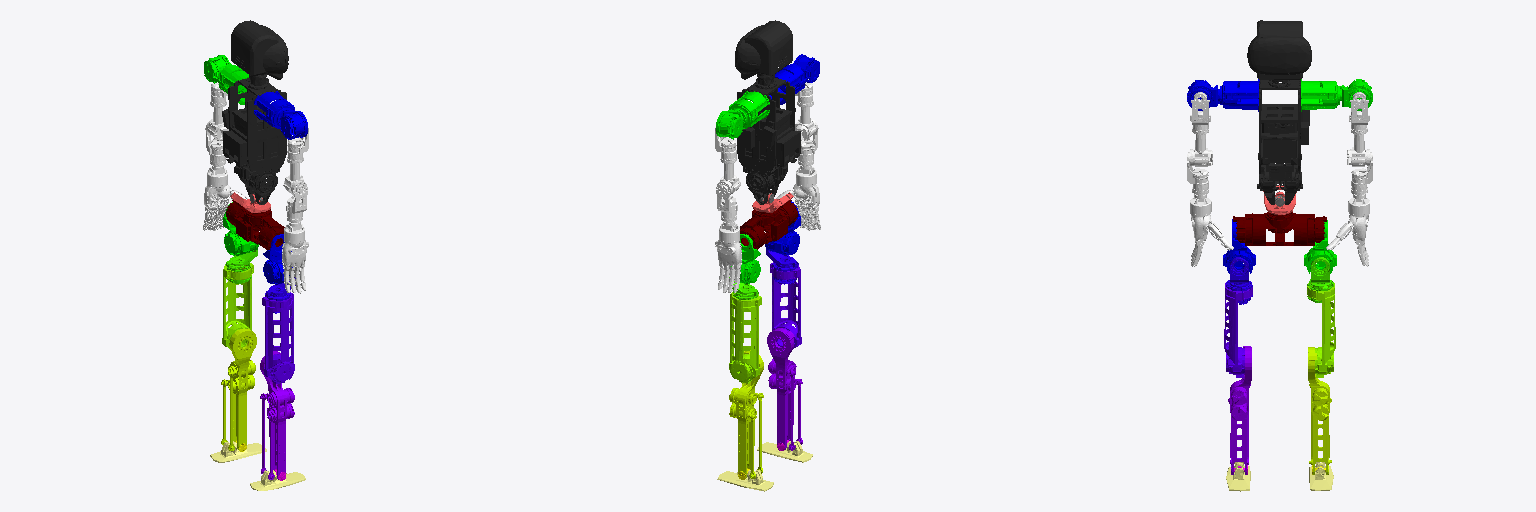
--- Render facts (derived) ---
3 views of the same robot in one strip: view 1: azimuth 30°, elevation 25°; view 2: azimuth 150°, elevation 25°; view 3: azimuth 270°, elevation 25° (orthographic).
Robot: mojia — 26 links, 25 joints (10 revolute, 15 fixed); root link base_link; default pose: all joints at 0.
Links seen in each view (by area): view 1: lumbar_pitch, left_knee_pitch, right_hip_yaw, right_knee_pitch, left_hip_yaw, base_link, right_shoulder_pitch, right_elbow_yaw, left_elbow_yaw, left_shoulder_pitch, right_hip_pitch, left_hip_pitch (+3 smaller); view 2: lumbar_pitch, right_knee_pitch, left_hip_yaw, left_knee_pitch, right_hip_yaw, base_link, left_shoulder_pitch, left_elbow_yaw, right_elbow_yaw, right_shoulder_pitch, left_hip_pitch, right_hip_pitch (+3 smaller); view 3: lumbar_pitch, base_link, left_knee_pitch, right_knee_pitch, left_shoulder_pitch, right_shoulder_pitch, left_hip_yaw, right_hip_yaw, right_elbow_yaw, left_elbow_yaw, right_shoulder_roll, left_shoulder_roll (+10 smaller).
Link boxes in pixels (x1,y1,x2,y2): lumbar_pitch: (222,20,288,204); left_knee_pitch: (221,328,256,450); right_hip_yaw: (262,292,294,383); right_knee_pitch: (260,351,294,479); left_hip_yaw: (222,263,253,349); base_link: (226,200,284,249); right_shoulder_pitch: (254,91,307,139); right_elbow_yaw: (282,222,308,293); left_elbow_yaw: (203,165,247,230); left_shoulder_pitch: (204,55,248,104); right_hip_pitch: (263,234,292,284); left_hip_pitch: (223,202,258,255); lumbar_pitch: (735,20,800,204); right_knee_pitch: (767,328,802,450); left_hip_yaw: (729,292,761,383); left_knee_pitch: (729,350,763,478); right_hip_yaw: (770,262,801,348); base_link: (740,200,797,249); left_shoulder_pitch: (716,91,769,139); left_elbow_yaw: (715,221,741,292); right_elbow_yaw: (776,165,820,230); right_shoulder_pitch: (769,54,819,104); left_hip_pitch: (731,234,760,283); right_hip_pitch: (765,201,800,254); lumbar_pitch: (1247,20,1311,204); base_link: (1233,212,1326,245); left_knee_pitch: (1308,347,1331,474); right_knee_pitch: (1228,346,1251,474); left_shoulder_pitch: (1301,79,1372,111); right_shoulder_pitch: (1187,79,1259,111); left_hip_yaw: (1307,283,1335,377); right_hip_yaw: (1224,283,1252,377); right_elbow_yaw: (1190,194,1233,266); left_elbow_yaw: (1326,194,1369,266); right_shoulder_roll: (1190,92,1210,134); left_shoulder_roll: (1349,92,1369,134).
Bounding box of the posed robot: 0.2198 × 0.5984 × 1.61 m (x, y, z).
26 mesh visuals loaded from 26 distinct referenced files (26 binary STL).

The robot description file, URDF, robot "mojia":
<?xml version="1.0" encoding="utf-8"?>
<!-- This URDF was automatically created by SolidWorks to URDF Exporter! Originally created by Stephen Brawner ([email redacted]) 
     Commit Version: 1.6.0-4-g7f85cfe  Build Version: 1.6.7995.38578
     For more information, please see http://wiki.ros.org/sw_urdf_exporter -->
<robot
  name="mojia">
  <!-- base_link -->
  <link
    name="base_link">
    <inertial>
      <origin
        xyz="-0.00411548224198929 0.000146147835290573 0.0426606792874893"
        rpy="0 0 0" />
      <mass
        value="1.10840556681425" />
      <inertia
        ixx="0.00441901229889038"
        ixy="-2.0392538906452E-06"
        ixz="-2.74478451994127E-05"
        iyy="0.00141431871882606"
        iyz="-1.41940549816939E-06"
        izz="0.00368200186094865" />
    </inertial>
    <visual>
      <origin
        xyz="0 0 0"
        rpy="0 0 0" />
      <geometry>
        <mesh
          filename="package://x1_moveit_urdf/meshes2/base_link_simple.STL" />
      </geometry>
      <material name="base_link_material">
        <color rgba="0.4 0 0 1" />
      </material>
    </visual>
    <collision>
      <origin
        xyz="0 0 0"
        rpy="0 0 0" />
      <geometry>
        <mesh
          filename="package://x1_moveit_urdf/meshes2/base_link_simple.STL" />
      </geometry>
    </collision>
  </link>
    <!-- lumbar_yaw -->
  <link
    name="lumbar_yaw">
    <inertial>
      <origin
        xyz="0.0242847587919135 0.000379949106794244 -0.0333488125835713"
        rpy="0 0 0" />
      <mass
        value="0.285605061772906" />
      <inertia
        ixx="0.000292548153065141"
        ixy="3.75674006613175E-07"
        ixz="4.24435646495604E-05"
        iyy="0.000267304646340175"
        iyz="6.64362629008402E-07"
        izz="0.000485961878526842" />
    </inertial>
    <visual>
      <origin
        xyz="0 0 0"
        rpy="0 0 0" />
      <geometry>
        <mesh
          filename="package://x1_moveit_urdf/meshes2/lumbar_yaw_simple.STL" />
      </geometry>
      <material name="lumbar_yaw_material">
        <color rgba="1 0.4 0.4 1" />
      </material>
    </visual>
    <collision>
      <origin
        xyz="0 0 0"
        rpy="0 0 0" />
      <geometry>
        <mesh
          filename="package://x1_moveit_urdf/meshes2/lumbar_yaw_simple.STL" />
      </geometry>
    </collision>
  </link>
  <!-- lumbar_yaw_joint -->
  <joint
    name="lumbar_yaw_joint"
    type="fixed">
    <origin
      xyz="-0.00892499999999956 0 0.0945"
      rpy="3.14159265358979 0 -3.14159265358978" />
    <parent
      link="base_link" />
    <child
      link="lumbar_yaw" />
    <axis
      xyz="0 0 -1" />
    <limit
      lower="-3.14"
      upper="3.14"
      effort="80"
      velocity="8" />
  </joint>
  <!-- lumbar_roll -->
  <link
    name="lumbar_roll">
    <inertial>
      <origin
        xyz="1.0432775894919E-14 5.07141613037554E-07 1.14154701148485E-13"
        rpy="0 0 0" />
      <mass
        value="0.0849490652980181" />
      <inertia
        ixx="6.8736749754492E-06"
        ixy="1.23726626464703E-20"
        ixz="-5.60189897559463E-08"
        iyy="1.42989849183807E-05"
        iyz="-2.32048040088288E-21"
        izz="1.045284785918E-05" />
    </inertial>
    <visual>
      <origin
        xyz="0 0 0"
        rpy="0 0 0" />
      <geometry>
        <mesh
          filename="package://x1_moveit_urdf/meshes2/lumbar_roll_simple.STL" />
      </geometry>
      <material
        name="lumbar_roll_material" >
        <color
          rgba="0.5 0.5 0.5 1.0" />
      </material>
    </visual>
    <collision>
      <origin
        xyz="0 0 0"
        rpy="0 0 0" />
      <geometry>
        <mesh
          filename="package://x1_moveit_urdf/meshes2/lumbar_roll_simple.STL" />
      </geometry>
    </collision>
  </link>
  <!-- lumbar_roll_joint -->
  <joint
    name="lumbar_roll_joint"
    type="fixed">
    <origin
      xyz="0 0 -0.0522"
      rpy="-1.5707963267949 0 1.57079632679492" />
    <parent
      link="lumbar_yaw" />
    <child
      link="lumbar_roll" />
    <axis
      xyz="0 0 -1" />
    <limit
      lower="-0.3"
      upper="0.3"
      effort="100"
      velocity="8" />
  </joint>
  <!-- lumbar_pitch -->
  <link
    name="lumbar_pitch">
    <inertial>
      <origin
        xyz="0.00631921618230846 0.264879323783239 0.00438445218382418"
        rpy="0 0 0" />
      <mass
        value="5.86662042170012" />
      <inertia
        ixx="0.0151704590846097"
        ixy="-0.000161997288556364"
        ixz="-2.32038766630112E-06"
        iyy="0.0137892848345163"
        iyz="1.11852172902789E-06"
        izz="0.0171651320818005" />
    </inertial>
    <visual>
      <origin
        xyz="0 0 0"
        rpy="0 0 0" />
      <geometry>
        <mesh
          filename="package://x1_moveit_urdf/meshes2/lumbar_pitch_simple.STL" />
      </geometry>
      <material
        name="lumbar_pitch_material">
        <color
          rgba="0.2 0.2 0.2 1" />
      </material>
    </visual>
    <collision>
      <origin
        xyz="0 0 0"
        rpy="0 0 0" />
      <geometry>
        <mesh
          filename="package://x1_moveit_urdf/meshes2/lumbar_pitch_simple.STL" />
      </geometry>
    </collision>
  </link>
  <!-- lumbar_pitch_joint -->
  <joint
    name="lumbar_pitch_joint"
    type="fixed">
    <origin
      xyz="0 0 0"
      rpy="0 1.55515005729251 0" />
    <parent
      link="lumbar_roll" />
    <child
      link="lumbar_pitch" />
    <axis
      xyz="0 0 1" />
    <limit
      lower="-0.3"
      upper="0.3"
      effort="100"
      velocity="8" />
  </joint>
    <!-- left_shoulder_pitch -->
  <link
    name="left_shoulder_pitch">
    <inertial>
      <origin
        xyz="-0.00332649335251115 -0.00110354880310753 0.0290235767327294"
        rpy="0 0 0" />
      <mass
        value="0.542699404176845" />
      <inertia
        ixx="0.000722529170897043"
        ixy="-5.54896068666339E-07"
        ixz="-1.91191464876378E-05"
        iyy="0.00101667275817213"
        iyz="-1.49494605897863E-05"
        izz="0.000552736902750732" />
    </inertial>
    <visual>
      <origin
        xyz="0 0 0"
        rpy="0 0 0" />
      <geometry>
        <mesh
          filename="package://x1_moveit_urdf/meshes2/left_shoulder_pitch_simple.STL" />
      </geometry>
      <material
        name="left_shoulder_pitch_material">
        <color
          rgba="0 1 0 1" />
      </material>
    </visual>
    <collision>
      <origin
        xyz="0 0 0"
        rpy="0 0 0" />
      <geometry>
        <mesh
          filename="package://x1_moveit_urdf/meshes2/left_shoulder_pitch_simple.STL" />
      </geometry>
    </collision>
  </link>
  <!-- left_shoulder_pitch_joint -->
  <joint
    name="left_shoulder_pitch_joint"
    type="revolute">
    <origin
      xyz="0.00684066494661035 0.365998640806869 0.181174671123289"
      rpy="3.14159265358979 0.031292539004771 0" />
    <parent
      link="lumbar_pitch" />
    <child
      link="left_shoulder_pitch" />
    <axis
      xyz="0 0 -1" />
    <limit
      lower="-3.14"
      upper="3.14"
      effort="80"
      velocity="8" />
  </joint>
  <!-- left_shoulder_roll -->
  <link
    name="left_shoulder_roll">
    <inertial>
      <origin
        xyz="-8.25364178028698E-05 0.0530767872535207 0.00723170713850169"
        rpy="0 0 0" />
      <mass
        value="0.177262967285343" />
      <inertia
        ixx="0.000150561257813197"
        ixy="-1.57480740107331E-07"
        ixz="-5.3233372935276E-07"
        iyy="6.49151390070414E-05"
        iyz="1.54045787231362E-05"
        izz="0.000184234580216881" />
    </inertial>
    <visual>
      <origin
        xyz="0 0 0"
        rpy="0 0 0" />
      <geometry>
        <mesh
          filename="package://x1_moveit_urdf/meshes2/left_shoulder_roll_simple.STL" />
      </geometry>
      <material
        name="">
        <color
          rgba="1 1 1 1" />
      </material>
    </visual>
    <collision>
      <origin
        xyz="0 0 0"
        rpy="0 0 0" />
      <geometry>
        <mesh
          filename="package://x1_moveit_urdf/meshes2/left_shoulder_roll_simple.STL" />
      </geometry>
    </collision>
  </link>
  <!-- left_shoulder_roll_joint -->
  <joint
    name="left_shoulder_roll_joint"
    type="revolute">
    <origin
      xyz="-0.0169999133123217 -5.42897189597658E-05 -0.0733999999999981"
      rpy="0 -1.55515005729249 0" />
    <parent
      link="left_shoulder_pitch" />
    <child
      link="left_shoulder_roll" />
    <axis
      xyz="0 0 -1" />
    <limit
      lower="-3.14"
      upper="0"
      effort="80"
      velocity="8" />
  </joint>
  <!-- left_shoulder_yaw -->
  <link
    name="left_shoulder_yaw">
    <inertial>
      <origin
        xyz="0.000149139608111414 -0.00264803136489561 -0.0651418602655361"
        rpy="0 0 0" />
      <mass
        value="0.194803017588638" />
      <inertia
        ixx="0.000135198542790347"
        ixy="-6.61852095338855E-08"
        ixz="5.10717801509479E-07"
        iyy="0.000166335353414696"
        iyz="6.51047641164555E-06"
        izz="6.6471862655499E-05" />
    </inertial>
    <visual>
      <origin
        xyz="0 0 0"
        rpy="0 0 0" />
      <geometry>
        <mesh
          filename="package://x1_moveit_urdf/meshes2/left_shoulder_yaw_simple.STL" />
      </geometry>
      <material
        name="">
        <color
          rgba="1 1 1 1" />
      </material>
    </visual>
    <collision>
      <origin
        xyz="0 0 0"
        rpy="0 0 0" />
      <geometry>
        <mesh
          filename="package://x1_moveit_urdf/meshes2/left_shoulder_yaw_simple.STL" />
      </geometry>
    </collision>
  </link>
  <!-- left_shoulder_yaw_joint -->
  <joint
    name="left_shoulder_yaw_joint"
    type="revolute">
    <origin
      xyz="0.000579714734117776 0.125254090204787 -0.0166930578416904"
      rpy="1.82673878068826 1.5582045043871 0.256324151940751" />
    <parent
      link="left_shoulder_roll" />
    <child
      link="left_shoulder_yaw" />
    <axis
      xyz="0 0 1" />
    <limit
      lower="-3.14"
      upper="3.14"
      effort="80"
      velocity="8" />
  </joint>
  <!-- left_elbow_pitch -->
  <link
    name="left_elbow_pitch">
    <inertial>
      <origin
        xyz="-0.000273876102835502 0.0583033973975012 0.00453621119175379"
        rpy="0 0 0" />
      <mass
        value="0.143808611229734" />
      <inertia
        ixx="0.000122979516243816"
        ixy="-1.55890139227625E-06"
        ixz="-5.36818906720583E-07"
        iyy="5.35513055114415E-05"
        iyz="-1.70454399759809E-05"
        izz="0.000140691828936738" />
    </inertial>
    <visual>
      <origin
        xyz="0 0 0"
        rpy="0 0 0" />
      <geometry>
        <mesh
          filename="package://x1_moveit_urdf/meshes2/left_elbow_pitch_simple.STL" />
      </geometry>
      <material
        name="">
        <color
          rgba="1 1 1 1" />
      </material>
    </visual>
    <collision>
      <origin
        xyz="0 0 0"
        rpy="0 0 0" />
      <geometry>
        <mesh
          filename="package://x1_moveit_urdf/meshes2/left_elbow_pitch_simple.STL" />
      </geometry>
    </collision>
  </link>
  <!-- left_elbow_pitch_joint -->
  <joint
    name="left_elbow_pitch_joint"
    type="revolute">
    <origin
      xyz="0.00163986046518474 -0.0313569443085182 -0.096499999999999"
      rpy="-1.5707963267949 -0.00319351850506053 0.00346578280149134" />
    <parent
      link="left_shoulder_yaw" />
    <child
      link="left_elbow_pitch" />
    <axis
      xyz="0 0 1" />
    <limit
      lower="0"
      upper="1.7"
      effort="80"
      velocity="8" />
  </joint>
  <!-- left_elbow_yaw -->
  <link
    name="left_elbow_yaw">
    <inertial>
      <origin
        xyz="0.000199094560296431 -0.000302870223542744 -0.0136355891234377"
        rpy="0 0 0" />
      <mass
        value="0.0612077984858201" />
      <inertia
        ixx="1.05700158378458E-05"
        ixy="-1.4621144225104E-07"
        ixz="-1.50686031125134E-11"
        iyy="8.35342507539468E-06"
        iyz="-2.09223764956818E-11"
        izz="1.19406807189465E-05" />
    </inertial>
    <visual>
      <origin
        xyz="0 0 0"
        rpy="0 0 0" />
      <geometry>
        <mesh
          filename="package://x1_moveit_urdf/meshes2/left_elbow_yaw_simple.STL" />
      </geometry>
      <material
        name="">
        <color
          rgba="1 1 1 1" />
      </material>
    </visual>
    <collision>
      <origin
        xyz="0 0 0"
        rpy="0 0 0" />
      <geometry>
        <mesh
          filename="package://x1_moveit_urdf/meshes2/left_elbow_yaw_simple.STL" />
      </geometry>
    </collision>
  </link>
  <!-- left_elbow_yaw_joint -->
  <joint
    name="left_elbow_yaw_joint"
    type="revolute">
    <origin
      xyz="0.0007880461527357 0.116972521845495 0.0308056475131634"
      rpy="1.57079632678494 -1.55514499556442 -0.022438290275157" />
    <parent
      link="left_elbow_pitch" />
    <child
      link="left_elbow_yaw" />
    <axis
      xyz="0 0 1" />
    <limit
      lower="-3.14"
      upper="3.14"
      effort="80"
      velocity="8" />
  </joint>
    <!-- right_shoulder_pitch -->
  <link
    name="right_shoulder_pitch">
    <inertial>
      <origin
        xyz="0.00341359621287992 -0.000986341160443271 0.0291359382301364"
        rpy="0 0 0" />
      <mass
        value="0.541164807985143" />
      <inertia
        ixx="0.000722519077405953"
        ixy="1.32379537779855E-06"
        ixz="1.91138067798437E-05"
        iyy="0.00101665284015591"
        iyz="-1.68000287858978E-05"
        izz="0.000552732129965598" />
    </inertial>
    <visual>
      <origin
        xyz="0 0 0"
        rpy="0 0 0" />
      <geometry>
        <mesh
          filename="package://x1_moveit_urdf/meshes2/right_shoulder_pitch_simple.STL" />
      </geometry>
      <material
        name="right_shoulder_pitch_material">
        <color
          rgba="0 0 1 1" />
      </material>
    </visual>
    <collision>
      <origin
        xyz="0 0 0"
        rpy="0 0 0" />
      <geometry>
        <mesh
          filename="package://x1_moveit_urdf/meshes2/right_shoulder_pitch_simple.STL" />
      </geometry>
    </collision>
  </link>
  <!-- right_shoulder_pitch_joint -->
  <joint
    name="right_shoulder_pitch_joint"
    type="revolute">
    <origin
      xyz="0.00116882571392232 0.365998640806869 -0.181299999999985"
      rpy="0 0 3.14159265358979" />
    <parent
      link="lumbar_pitch" />
    <child
      link="right_shoulder_pitch" />
    <axis
      xyz="0 0 1" />
    <limit
      lower="-3.14"
      upper="3.14"
      effort="80"
      velocity="8" />
  </joint>
  <!-- right_shoulder_roll -->
  <link
    name="right_shoulder_roll">
    <inertial>
      <origin
        xyz="-1.86494505473034E-05 -0.0530995950476543 0.00706257503619361"
        rpy="0 0 0" />
      <mass
        value="0.177262967616402" />
      <inertia
        ixx="0.000150552920976246"
        ixy="2.34557176353238E-08"
        ixz="-5.52349341421497E-09"
        iyy="6.5014673405522E-05"
        iyz="-1.57859159242346E-05"
        izz="0.000184143383830389" />
    </inertial>
    <visual>
      <origin
        xyz="0 0 0"
        rpy="0 0 0" />
      <geometry>
        <mesh
          filename="package://x1_moveit_urdf/meshes2/right_shoulder_roll_simple.STL" />
      </geometry>
      <material
        name="">
        <color
          rgba="1 1 1 1" />
      </material>
    </visual>
    <collision>
      <origin
        xyz="0 0 0"
        rpy="0 0 0" />
      <geometry>
        <mesh
          filename="package://x1_moveit_urdf/meshes2/right_shoulder_roll_simple.STL" />
      </geometry>
    </collision>
  </link>
  <!-- right_shoulder_roll_joint -->
  <joint
    name="right_shoulder_roll_joint"
    type="revolute">
    <origin
      xyz="0.0169999133123207 -5.42897189588776E-05 -0.0733999999999984"
      rpy="-0.234226861435469 -1.57079630572147 -2.91064514152232" />
    <parent
      link="right_shoulder_pitch" />
    <child
      link="right_shoulder_roll" />
    <axis
      xyz="0 0 1" />
    <limit
      lower="-3.14"
      upper="0"
      effort="80"
      velocity="8" />
  </joint>
  <!-- right_shoulder_yaw -->
  <link
    name="right_shoulder_yaw">
    <inertial>
      <origin
        xyz="-0.00174842851611806 0.000333054815321896 0.0651418600731424"
        rpy="0 0 0" />
      <mass
        value="0.19480301770664" />
      <inertia
        ixx="0.000165972455416268"
        ixy="-3.34246474543428E-06"
        ixz="-6.92073368503519E-06"
        iyy="0.000135561436521552"
        iyz="2.24532271362631E-07"
        izz="6.64718608216598E-05" />
    </inertial>
    <visual>
      <origin
        xyz="0 0 0"
        rpy="0 0 0" />
      <geometry>
        <mesh
          filename="package://x1_moveit_urdf/meshes2/right_shoulder_yaw_simple.STL" />
      </geometry>
      <material
        name="">
        <color
          rgba="1 1 1 1" />
      </material>
    </visual>
    <collision>
      <origin
        xyz="0 0 0"
        rpy="0 0 0" />
      <geometry>
        <mesh
          filename="package://x1_moveit_urdf/meshes2/right_shoulder_yaw_simple.STL" />
      </geometry>
    </collision>
  </link>
  <!-- right_shoulder_yaw_joint -->
  <joint
    name="right_shoulder_yaw_joint"
    type="revolute">
    <origin
      xyz="-4.39689994110593E-05 -0.125199992279295 -0.0170999999999989"
      rpy="1.5707963267949 -0.109529170147002 -0.000351190097847177" />
    <parent
      link="right_shoulder_roll" />
    <child
      link="right_shoulder_yaw" />
    <axis
      xyz="0 0 1" />
    <limit
      lower="-3.14"
      upper="3.14"
      effort="80"
      velocity="8" />
  </joint>
  <!-- right_elbow_pitch -->
  <link
    name="right_elbow_pitch">
    <inertial>
      <origin
        xyz="0.00130853072632608 -0.0583071351001719 0.00456877405751716"
        rpy="0 0 0" />
      <mass
        value="0.143808617756103" />
      <inertia
        ixx="0.000122979526170695"
        ixy="1.55889015489514E-06"
        ixz="-5.3677454927956E-07"
        iyy="5.35513063953965E-05"
        iyz="1.70454411337504E-05"
        izz="0.000140691839527152" />
    </inertial>
    <visual>
      <origin
        xyz="0 0 0"
        rpy="0 0 0" />
      <geometry>
        <mesh
          filename="package://x1_moveit_urdf/meshes2/right_elbow_pitch_simple.STL" />
      </geometry>
      <material
        name="">
        <color
          rgba="1 1 1 1" />
      </material>
    </visual>
    <collision>
      <origin
        xyz="0 0 0"
        rpy="0 0 0" />
      <geometry>
        <mesh
          filename="package://x1_moveit_urdf/meshes2/right_elbow_pitch_simple.STL" />
      </geometry>
    </collision>
  </link>
  <!-- right_elbow_pitch_joint -->
  <joint
    name="right_elbow_pitch_joint"
    type="revolute">
    <origin
      xyz="-0.0308142379152539 0.00338861943897752 0.0964999999999989"
      rpy="-1.5707963267949 0.00319351850506053 -1.68032549694189" />
    <parent
      link="right_shoulder_yaw" />
    <child
      link="right_elbow_pitch" />
    <axis
      xyz="0 0 -1" />
    <limit
      lower="0"
      upper="1.7"
      effort="80"
      velocity="8" />
  </joint>
  <!-- right_elbow_yaw -->
  <link
    name="right_elbow_yaw">
    <inertial>
      <origin
        xyz="-1.92816910771221E-08 -1.64460819754297E-08 -0.013635590017065"
        rpy="0 0 0" />
      <mass
        value="0.0612078028237884" />
      <inertia
        ixx="1.05700177312347E-05"
        ixy="1.46204619903361E-07"
        ixz="-1.27083552627504E-11"
        iyy="8.35342478537872E-06"
        iyz="-1.53169897306542E-11"
        izz="1.19406809591988E-05" />
    </inertial>
    <visual>
      <origin
        xyz="0 0 0"
        rpy="0 0 0" />
      <geometry>
        <mesh
          filename="package://x1_moveit_urdf/meshes2/right_elbow_yaw_simple.STL" />
      </geometry>
      <material
        name="">
        <color
          rgba="1 1 1 1" />
      </material>
    </visual>
    <collision>
      <origin
        xyz="0 0 0"
        rpy="0 0 0" />
      <geometry>
        <mesh
          filename="package://x1_moveit_urdf/meshes2/right_elbow_yaw_simple.STL" />
      </geometry>
    </collision>
  </link>
  <!-- right_elbow_yaw_joint -->
  <joint
    name="right_elbow_yaw_joint"
    type="revolute">
    <origin
      xyz="0.00262505967428117 -0.116970547838755 0.0310000000000156"
      rpy="-1.57079632678494 -1.55514499556442 0.0224382902751568" />
    <parent
      link="right_elbow_pitch" />
    <child
      link="right_elbow_yaw" />
    <axis
      xyz="0 0 -1" />
    <limit
      lower="-3.14"
      upper="3.14"
      effort="80"
      velocity="8" />
  </joint>
  <!-- left_hip_pitch -->
  <link
    name="left_hip_pitch">
    <inertial>
      <origin
        xyz="-0.0768353855661542 -0.00509349646830231 0.00477908123851142"
        rpy="0 0 0" />
      <mass
        value="0.499137053804163" />
      <inertia
        ixx="0.000470159834795421"
        ixy="-7.67218816291647E-07"
        ixz="6.34831225495408E-05"
        iyy="0.00075943013272318"
        iyz="1.50572596404635E-07"
        izz="0.000627349919131527" />
    </inertial>
    <visual>
      <origin
        xyz="0 0 0"
        rpy="0 0 0" />
      <geometry>
        <mesh
          filename="package://x1_moveit_urdf/meshes2/left_hip_pitch_simple.STL" />
      </geometry>
      <material
        name="left_hip_pitch_material">
        <color
          rgba="0 1 0 1" />
      </material>
    </visual>
    <collision>
      <origin
        xyz="0 0 0"
        rpy="0 0 0" />
      <geometry>
        <mesh
          filename="package://x1_moveit_urdf/meshes2/left_hip_pitch_simple.STL" />
      </geometry>
    </collision>
  </link>
  <!-- left_hip_pitch_joint -->
  <joint
    name="left_hip_pitch_joint"
    type="fixed">
    <origin
      xyz="-0.00892499999999997 0.1366 0.0370000000000009"
      rpy="1.5707963267949 -1.5707963267949 0" />
    <parent
      link="base_link" />
    <child
      link="left_hip_pitch" />
    <axis
      xyz="0 0 1" />
    <limit
      lower="-3.14"
      upper="3.14"
      effort="150"
      velocity="8" />
  </joint>
  <!-- left_hip_roll -->
  <link
    name="left_hip_roll">
    <inertial>
      <origin
        xyz="0.000302607426308971 -0.0611150281238166 -0.0135350215072093"
        rpy="0 0 0" />
      <mass
        value="0.244995882241488" />
      <inertia
        ixx="0.000288446946271372"
        ixy="-3.94306076373627E-10"
        ixz="-1.63239145296905E-07"
        iyy="0.000203132884371558"
        iyz="-8.13199094994196E-05"
        izz="0.000260839810139012" />
    </inertial>
    <visual>
      <origin
        xyz="0 0 0"
        rpy="0 0 0" />
      <geometry>
        <mesh
          filename="package://x1_moveit_urdf/meshes2/left_hip_roll_simple.STL" />
      </geometry>
      <material
        name="left_hip_roll_material">
        <color
          rgba="0.3 1 0 1" />
      </material>
    </visual>
    <collision>
      <origin
        xyz="0 0 0"
        rpy="0 0 0" />
      <geometry>
        <mesh
          filename="package://x1_moveit_urdf/meshes2/left_hip_roll_simple.STL" />
      </geometry>
    </collision>
  </link>
  <!-- left_hip_roll_joint -->
  <joint
    name="left_hip_roll_joint"
    type="fixed">
    <origin
      xyz="-0.106902043422618 -0.0376294513921441 0.00625000000000259"
      rpy="1.5707963267949 1.5707963267949 0" />
    <parent
      link="left_hip_pitch" />
    <child
      link="left_hip_roll" />
    <axis
      xyz="0 0 -1" />
    <limit
      lower="-2.3"
      upper="0.8"
      effort="150"
      velocity="8" />
  </joint>
  <!-- left_hip_yaw -->
  <link
    name="left_hip_yaw">
    <inertial>
      <origin
        xyz="0.00998955793786788 0.000163319481209022 0.125854635023332"
        rpy="0 0 0" />
      <mass
        value="0.650294976239883" />
      <inertia
        ixx="0.00451228884717276"
        ixy="-2.80689031477291E-08"
        ixz="0.000127212368924329"
        iyy="0.00387304139500323"
        iyz="-4.60618890673578E-09"
        izz="0.000888216455121223" />
    </inertial>
    <visual>
      <origin
        xyz="0 0 0"
        rpy="0 0 0" />
      <geometry>
        <mesh
          filename="package://x1_moveit_urdf/meshes2/left_hip_yaw_simple.STL" />
      </geometry>
      <material
        name="left_hip_yaw_material">
        <color
          rgba="0.6 1 0 1" />
      </material>
    </visual>
    <collision>
      <origin
        xyz="0 0 0"
        rpy="0 0 0" />
      <geometry>
        <mesh
          filename="package://x1_moveit_urdf/meshes2/left_hip_yaw_simple.STL" />
      </geometry>
    </collision>
  </link>
  <!-- left_hip_yaw_joint -->
  <joint
    name="left_hip_yaw_joint"
    type="fixed">
    <origin
      xyz="0 -0.130201409923332 -0.0367599239353459"
      rpy="1.56818343700026 0 0" />
    <parent
      link="left_hip_roll" />
    <child
      link="left_hip_yaw" />
    <axis
      xyz="0 0 -1" />
    <limit
      lower="-3.14"
      upper="3.14"
      effort="50"
      velocity="24" />
  </joint>
  <!-- left_knee_pitch -->
  <link
    name="left_knee_pitch">
    <inertial>
      <origin
        xyz="0.0114537842909162 -0.184145220288645 0.0234060443728987"
        rpy="0 0 0" />
      <mass
        value="1.05784720547283" />
      <inertia
        ixx="0.0113485834531835"
        ixy="4.115770741638E-05"
        ixz="7.86723536105806E-06"
        iyy="0.000518068119921075"
        iyz="0.000981300531059996"
        izz="0.0111404498442601" />
    </inertial>
    <visual>
      <origin
        xyz="0 0 0"
        rpy="0 0 0" />
      <geometry>
        <mesh
          filename="package://x1_moveit_urdf/meshes2/left_knee_pitch_simple.STL" />
      </geometry>
      <material
        name="left_knee_pitch_material">
        <color
          rgba="0.8 1 0 1" />
      </material>
    </visual>
    <collision>
      <origin
        xyz="0 0 0"
        rpy="0 0 0" />
      <geometry>
        <mesh
          filename="package://x1_moveit_urdf/meshes2/left_knee_pitch_simple.STL" />
      </geometry>
    </collision>
  </link>
  <!-- left_knee_pitch_joint -->
  <joint
    name="left_knee_pitch_joint"
    type="fixed">
    <origin
      xyz="-0.0301999999999961 0 0.225799999999773"
      rpy="-1.5707963267949 0.00261288979463162 -1.57079632679624" />
    <parent
      link="left_hip_yaw" />
    <child
      link="left_knee_pitch" />
    <axis
      xyz="0 0 1" />
    <limit
      lower="0.0"
      upper="1.8"
      effort="150"
      velocity="8" />
  </joint>
  <!-- left_ankle_pitch -->
  <link
    name="left_ankle_pitch">
    <inertial>
      <origin
        xyz="-8.84427080183325E-15 9.32587340685131E-15 -7.41073868937292E-15"
        rpy="0 0 0" />
      <mass
        value="0.0849490652980182" />
      <inertia
        ixx="9.9634051635566E-06"
        ixy="-5.80894148829404E-08"
        ixz="-1.45166121763947E-21"
        iyy="1.42982066187501E-05"
        iyz="-4.17714819225745E-21"
        izz="7.36389597070316E-06" />
    </inertial>
    <visual>
      <origin
        xyz="0 0 0"
        rpy="0 0 0" />
      <geometry>
        <mesh
          filename="package://x1_moveit_urdf/meshes2/left_ankle_pitch_simple.STL" />
      </geometry>
      <material
        name="left_ankle_pitch_material">
        <color
          rgba="1 1 0 1" />
      </material>
    </visual>
    <collision>
      <origin
        xyz="0 0 0"
        rpy="0 0 0" />
      <geometry>
        <mesh
          filename="package://x1_moveit_urdf/meshes2/left_ankle_pitch_simple.STL" />
      </geometry>
    </collision>
  </link>
  <!-- left_ankle_pitch_joint -->
  <joint
    name="left_ankle_pitch_joint"
    type="fixed">
    <origin
      xyz="0 -0.385000000000005 0.0300999999999915"
      rpy="3.14159265358979 0 -3.14159265358979" />
    <parent
      link="left_knee_pitch" />
    <child
      link="left_ankle_pitch" />
    <axis
      xyz="0 0 -1" />
    <limit
      lower="-0.45"
      upper="0.53"
      effort="80"
      velocity="10" />
  </joint>
  <!-- left_ankle_roll -->
  <link
    name="left_ankle_roll">
    <inertial>
      <origin
        xyz="0.00103384742139478 -0.0243320483988078 -0.00578115568426951"
        rpy="0 0 0" />
      <mass
        value="0.320872234018552" />
      <inertia
        ixx="0.00059815844106272"
        ixy="-6.17694002252597E-07"
        ixz="-3.42614597752537E-07"
        iyy="0.000659551190538004"
        iyz="-0.000109468786305328"
        izz="0.000136929660183721" />
    </inertial>
    <visual>
      <origin
        xyz="0 0 0"
        rpy="0 0 0" />
      <geometry>
        <mesh
          filename="package://x1_moveit_urdf/meshes2/left_ankle_roll_simple.STL" />
      </geometry>
      <material
        name="left_ankle_roll_material">
        <color
          rgba="1 1 0.6 1" />
      </material>
    </visual>
    <collision>
      <origin
        xyz="0 0 0"
        rpy="0 0 0" />
      <geometry>
        <mesh
          filename="package://x1_moveit_urdf/meshes2/left_ankle_roll_simple.STL" />
      </geometry>
    </collision>
  </link>
  <!-- left_ankle_roll_joint -->
  <joint
    name="left_ankle_roll_joint"
    type="fixed">
    <origin
      xyz="0 0 0"
      rpy="0.186565506447449 1.5707963267949 0" />
    <parent
      link="left_ankle_pitch" />
    <child
      link="left_ankle_roll" />
    <axis
      xyz="0 0 1" />
    <limit
      lower="-0.35"
      upper="0.35"
      effort="80"
      velocity="10" />
  </joint>
  <!-- right_hip_pitch -->
  <link
    name="right_hip_pitch">
    <inertial>
      <origin
        xyz="0.0768366458793737 0.00507070394553279 -0.00402980267174513"
        rpy="0 0 0" />
      <mass
        value="0.499137066244464" />
      <inertia
        ixx="0.00047013850002577"
        ixy="-7.56987007842232E-07"
        ixz="6.34716406414524E-05"
        iyy="0.000759430235919837"
        iyz="1.60339075938364E-07"
        izz="0.000627371250338339" />
    </inertial>
    <visual>
      <origin
        xyz="0 0 0"
        rpy="0 0 0" />
      <geometry>
        <mesh
          filename="package://x1_moveit_urdf/meshes2/right_hip_pitch_simple.STL" />
      </geometry>
      <material
        name="right_hip_pitch_material">
        <color
          rgba="0 0 1 1" />
      </material>
    </visual>
    <collision>
      <origin
        xyz="0 0 0"
        rpy="0 0 0" />
      <geometry>
        <mesh
          filename="package://x1_moveit_urdf/meshes2/right_hip_pitch_simple.STL" />
      </geometry>
    </collision>
  </link>
  <!-- right_hip_pitch_joint -->
  <joint
    name="right_hip_pitch_joint"
    type="fixed">
    <origin
      xyz="-0.00892499999999973 -0.13585 0.0369999999999999"
      rpy="1.5707963267949 1.5707963267949 0" />
    <parent
      link="base_link" />
    <child
      link="right_hip_pitch" />
    <axis
      xyz="0 0 -1" />
    <limit
      lower="-3.14"
      upper="3.14"
      effort="150"
      velocity="8" />
  </joint>
  <!-- right_hip_roll -->
  <link
    name="right_hip_roll">
    <inertial>
      <origin
        xyz="0.000302609741209936 -0.0481256896162707 0.0135689612944725"
        rpy="0 0 0" />
      <mass
        value="0.244995882241488" />
      <inertia
        ixx="0.000288446946271372"
        ixy="-4.58668568466603E-10"
        ixz="1.63208876158808E-07"
        iyy="0.000203132884444001"
        iyz="8.13198956366528E-05"
        izz="0.000260839810066567" />
    </inertial>
    <visual>
      <origin
        xyz="0 0 0"
        rpy="0 0 0" />
      <geometry>
        <mesh
          filename="package://x1_moveit_urdf/meshes2/right_hip_roll_simple.STL" />
      </geometry>
      <material
        name="right_hip_roll_material">
        <color
          rgba="0.2 0 1 1" />
      </material>
    </visual>
    <collision>
      <origin
        xyz="0 0 0"
        rpy="0 0 0" />
      <geometry>
        <mesh
          filename="package://x1_moveit_urdf/meshes2/right_hip_roll_simple.STL" />
      </geometry>
    </collision>
  </link>
  <!-- right_hip_roll_joint -->
  <joint
    name="right_hip_roll_joint"
    type="fixed">
    <origin
      xyz="0.106902043422617 0.0376294513921436 -0.00550000000000225"
      rpy="1.5707963267949 -1.5707963267949 0" />
    <parent
      link="right_hip_pitch" />
    <child
      link="right_hip_roll" />
    <axis
      xyz="0 0 1" />
    <limit
      lower="-0.8"
      upper="2.3"
      effort="150"
      velocity="8" />
  </joint>
  <!-- right_hip_yaw -->
  <link
    name="right_hip_yaw">
    <inertial>
      <origin
        xyz="0.00997976758109967 0.000164622694333141 -0.128953309088852"
        rpy="0 0 0" />
      <mass
        value="0.650294990438815" />
      <inertia
        ixx="0.00451228884076351"
        ixy="-7.78594513952418E-08"
        ixz="-0.000127213484001969"
        iyy="0.00387302734368796"
        iyz="4.22793975972583E-07"
        izz="0.000888230509769963" />
    </inertial>
    <visual>
      <origin
        xyz="0 0 0"
        rpy="0 0 0" />
      <geometry>
        <mesh
          filename="package://x1_moveit_urdf/meshes2/right_hip_yaw_simple.STL" />
      </geometry>
      <material
        name="right_hip_yaw_material">
        <color
          rgba="0.4 0 1 1" />
      </material>
    </visual>
    <collision>
      <origin
        xyz="0 0 0"
        rpy="0 0 0" />
      <geometry>
        <mesh
          filename="package://x1_moveit_urdf/meshes2/right_hip_yaw_simple.STL" />
      </geometry>
    </collision>
  </link>
  <!-- right_hip_yaw_joint -->
  <joint
    name="right_hip_yaw_joint"
    type="fixed">
    <origin
      xyz="0 -0.127101420505254 0.0367680238844933"
      rpy="-1.56818343700027 0 0" />
    <parent
      link="right_hip_roll" />
    <child
      link="right_hip_yaw" />
    <axis
      xyz="0 0 1" />
    <limit
      lower="-3.14"
      upper="3.14"
      effort="50"
      velocity="24" />
  </joint>
  <!-- right_knee_pitch -->
  <link
    name="right_knee_pitch">
    <inertial>
      <origin
        xyz="-0.0124372999743814 -0.180980729647601 0.0232971916031315"
        rpy="0 0 0" />
      <mass
        value="1.04073030200212" />
      <inertia
        ixx="0.0113468217525957"
        ixy="4.36819133877329E-05"
        ixz="7.86572143299153E-06"
        iyy="0.000516306532946036"
        iyz="0.000981314366555794"
        izz="0.0111403363346532" />
    </inertial>
    <visual>
      <origin
        xyz="0 0 0"
        rpy="0 0 0" />
      <geometry>
        <mesh
          filename="package://x1_moveit_urdf/meshes2/right_knee_pitch_simple.STL" />
      </geometry>
      <material
        name="right_knee_pitch_material">
        <color
          rgba="0.6 0 1 1" />
      </material>
    </visual>
    <collision>
      <origin
        xyz="0 0 0"
        rpy="0 0 0" />
      <geometry>
        <mesh
          filename="package://x1_moveit_urdf/meshes2/right_knee_pitch_simple.STL" />
      </geometry>
    </collision>
  </link>
  <!-- right_knee_pitch_joint -->
  <joint
    name="right_knee_pitch_joint"
    type="fixed">
    <origin
      xyz="-0.0301999999999978 0 -0.228899999999995"
      rpy="1.57079632679489 0.00261288979462868 1.57079632679603" />
    <parent
      link="right_hip_yaw" />
    <child
      link="right_knee_pitch" />
    <axis
      xyz="0 0 -1" />
    <limit
      lower="0.0"
      upper="1.8"
      effort="150"
      velocity="8" />
  </joint>
  <!-- right_ankle_pitch -->
  <link
    name="right_ankle_pitch">
    <inertial>
      <origin
        xyz="-2.46764414457701E-14 -1.0769163338864E-14 -3.0891955660195E-14"
        rpy="0 0 0" />
      <mass
        value="0.0849490652980182" />
      <inertia
        ixx="9.9634051635566E-06"
        ixy="5.80894148829403E-08"
        ixz="-1.75930107244605E-21"
        iyy="1.42982066187501E-05"
        iyz="3.87572618478114E-21"
        izz="7.36389597070316E-06" />
    </inertial>
    <visual>
      <origin
        xyz="0 0 0"
        rpy="0 0 0" />
      <geometry>
        <mesh
          filename="package://x1_moveit_urdf/meshes2/right_ankle_pitch_simple.STL" />
      </geometry>
      <material
        name="right_ankle_pitch_material">
        <color
          rgba="1 0 1 1" />
      </material>
    </visual>
    <collision>
      <origin
        xyz="0 0 0"
        rpy="0 0 0" />
      <geometry>
        <mesh
          filename="package://x1_moveit_urdf/meshes2/right_ankle_pitch_simple.STL" />
      </geometry>
    </collision>
  </link>
  <!-- right_ankle_pitch_joint -->
  <joint
    name="right_ankle_pitch_joint"
    type="fixed">
    <origin
      xyz="0 -0.385000000000006 0.0300999999999655"
      rpy="-3.14159265358979 0 0" />
    <parent
      link="right_knee_pitch" />
    <child
      link="right_ankle_pitch" />
    <axis
      xyz="0 0 1" />
    <limit
      lower="-0.45"
      upper="0.53"
      effort="80"
      velocity="10" />
  </joint>
  <!-- right_ankle_roll -->
  <link
    name="right_ankle_roll">
    <inertial>
      <origin
        xyz="0.00103396574657999 0.0228374969778827 -0.0101940682091403"
        rpy="0 0 0" />
      <mass
        value="0.320872234079849" />
      <inertia
        ixx="0.000598158441322896"
        ixy="5.4344616755146E-07"
        ixz="-4.51714691178402E-07"
        iyy="0.00068147550403419"
        iyz="6.67996321576171E-06"
        izz="0.000115005348867487" />
    </inertial>
    <visual>
      <origin
        xyz="0 0 0"
        rpy="0 0 0" />
      <geometry>
        <mesh
          filename="package://x1_moveit_urdf/meshes2/right_ankle_roll_simple.STL" />
      </geometry>
      <material
        name="right_ankle_roll_material">
        <color
          rgba="1 1 0.6 1" />
      </material>
    </visual>
    <collision>
      <origin
        xyz="0 0 0"
        rpy="0 0 0" />
      <geometry>
        <mesh
          filename="package://x1_moveit_urdf/meshes2/right_ankle_roll_simple.STL" />
      </geometry>
    </collision>
  </link>
  <!-- right_ankle_roll_joint -->
  <joint
    name="right_ankle_roll_joint"
    type="fixed">
    <origin
      xyz="0 0 0"
      rpy="0 1.5707963267949 0" />
    <parent
      link="right_ankle_pitch" />
    <child
      link="right_ankle_roll" />
    <axis
      xyz="0 0.18548510052829 0.982647076768669" />
    <limit
      lower="-0.35"
      upper="0.35"
      effort="80"
      velocity="10" />
  </joint>
</robot>
